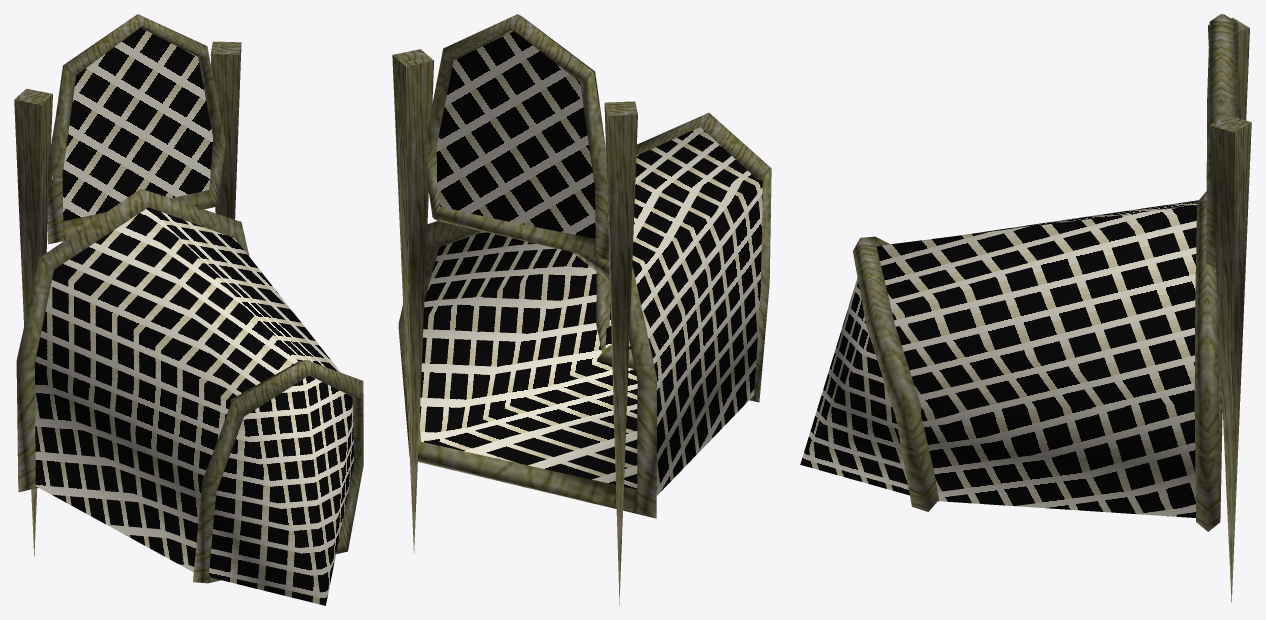
File: trap.obj
3 views of the same model, side by side, from view 1: azimuth 30°, elevation 25°; view 2: azimuth 150°, elevation 25°; view 3: azimuth 270°, elevation 25° (orthographic). The views are drawn at different scales.
Visible parts, largest first — view 1: Duplicate01, Duplicate02, Cylinder01, Duplicate04, Box01; view 2: Duplicate01, Duplicate02, Cylinder01, Box01, Duplicate04; view 3: Duplicate01, Duplicate02, Duplicate04, Box01.
Boxes of the visible parts, x1,y1,x2,y2 form: Duplicate01: (34, 41, 353, 605); Duplicate02: (16, 14, 353, 604); Cylinder01: (51, 27, 213, 221); Duplicate04: (193, 360, 363, 583); Box01: (14, 88, 52, 556); Duplicate01: (392, 49, 762, 552); Duplicate02: (398, 14, 762, 518); Cylinder01: (436, 31, 595, 238); Box01: (604, 101, 637, 605); Duplicate04: (596, 113, 771, 402); Duplicate01: (800, 115, 1251, 601); Duplicate02: (801, 14, 1238, 531); Duplicate04: (853, 236, 938, 511); Box01: (1208, 17, 1249, 120).
Bounding box in the file's own units: 24.07 × 49.57 × 37.13.
